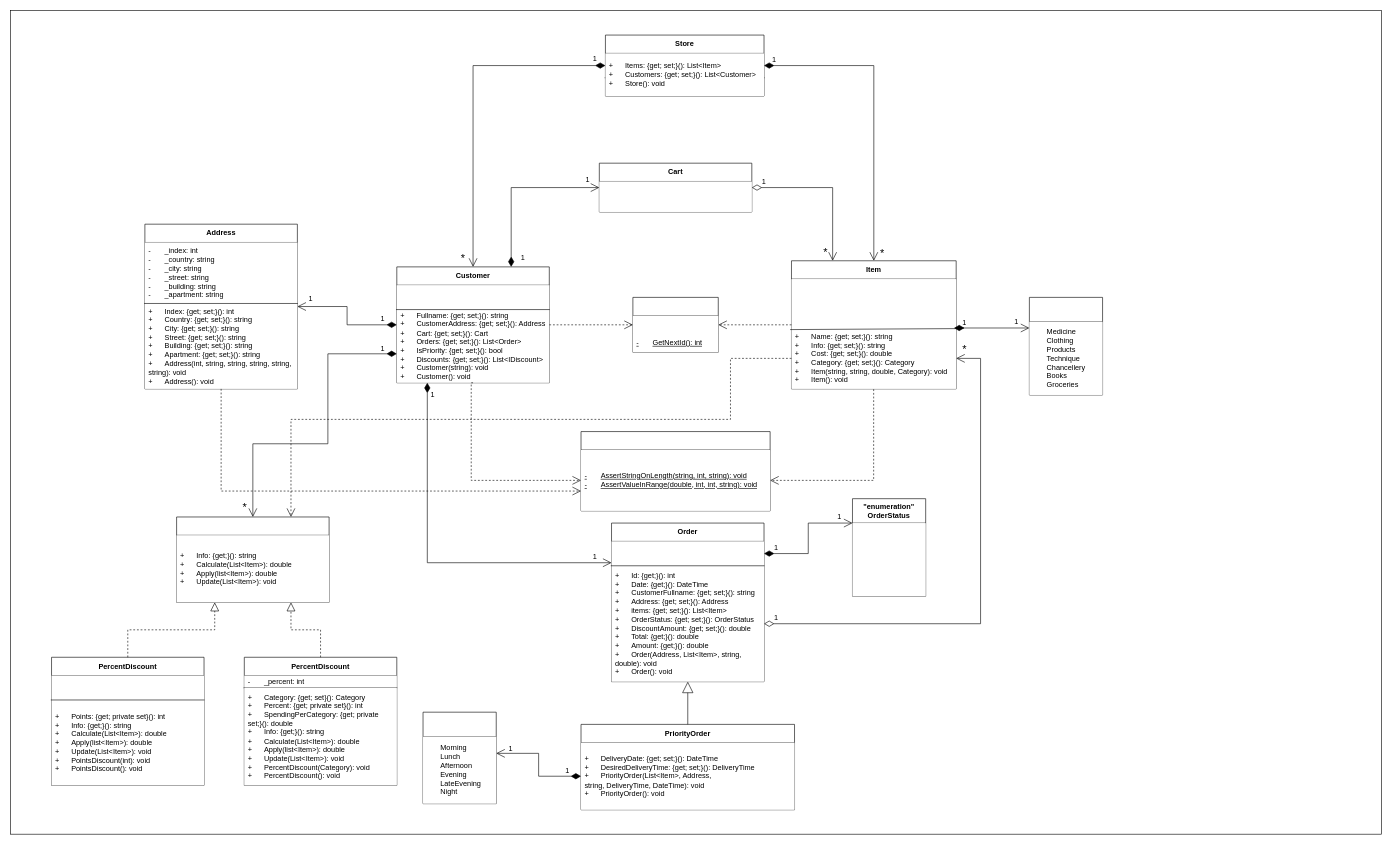
Image size: 1392x845. Some labels were removed from this diagram. Here are the shapes that lost their labels. From the top down, the box of each, then its label:
(599, 181, 752, 212): + Items: {get; set;}(): List<Item> + Amount: {get;}(): double + Cart(): void
(396, 285, 549, 309): - _id: readonly int - _fullname: string
(791, 279, 956, 328): - _id: readonly int - _name: string - _info: string - _cost: double
(632, 297, 718, 352): IdGenerator
(633, 315, 718, 334): - _nextId: int
(1029, 297, 1103, 395): "enumeration" Category
(580, 431, 770, 511): ValueGenerator
(176, 516, 329, 602): "interface" IDiscount
(611, 541, 764, 565): - _id: int - _data: DateTime
(852, 523, 925, 596): New Processing Assembly Sent Delivered Returned Abandoned
(51, 675, 204, 700): - _points: int - _maxDiscountPercentage: const int
(422, 712, 496, 804): "enumeration" DeliveryTime
